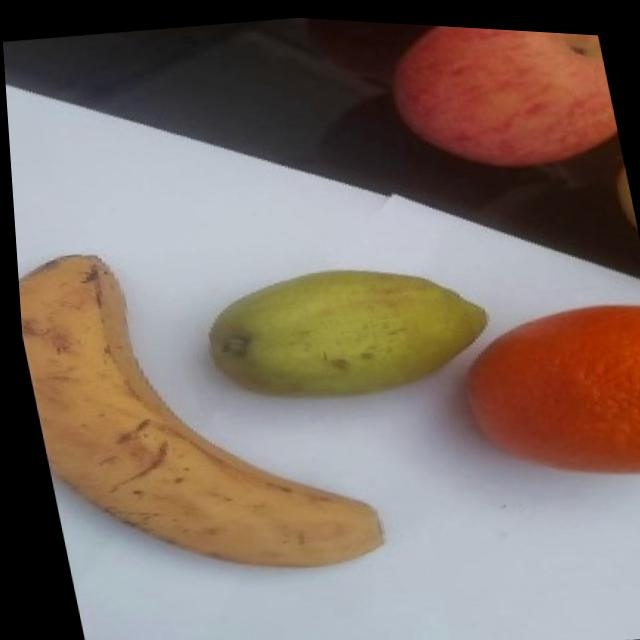Apple: (371, 17, 623, 186)
Banana: (11, 213, 384, 605)
Orange: (442, 277, 640, 490)
